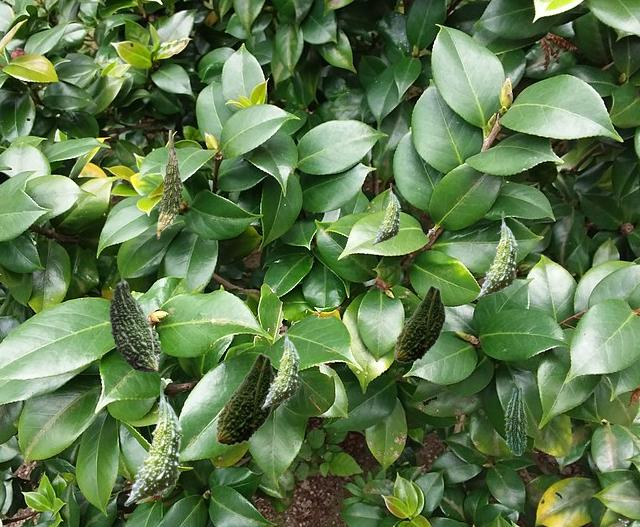ampalaya: (124, 381, 182, 505), (215, 353, 275, 445), (109, 279, 160, 371), (394, 285, 445, 362), (476, 211, 517, 298), (261, 326, 299, 408), (157, 130, 182, 238), (372, 183, 400, 244), (504, 388, 526, 454)
